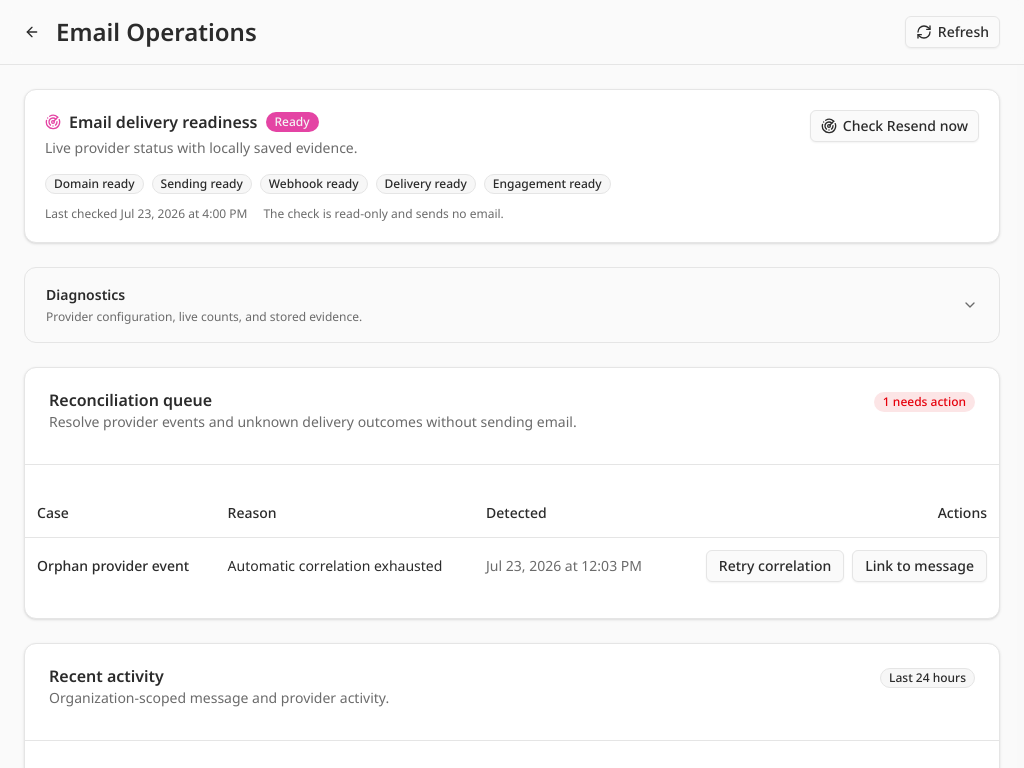
it: EmailOperationsDashboard › shows a controlled conflict message and blocks duplicate retries
Click the button "Retry correlation": [775, 566] box x1=706 y1=550 x2=844 y2=582
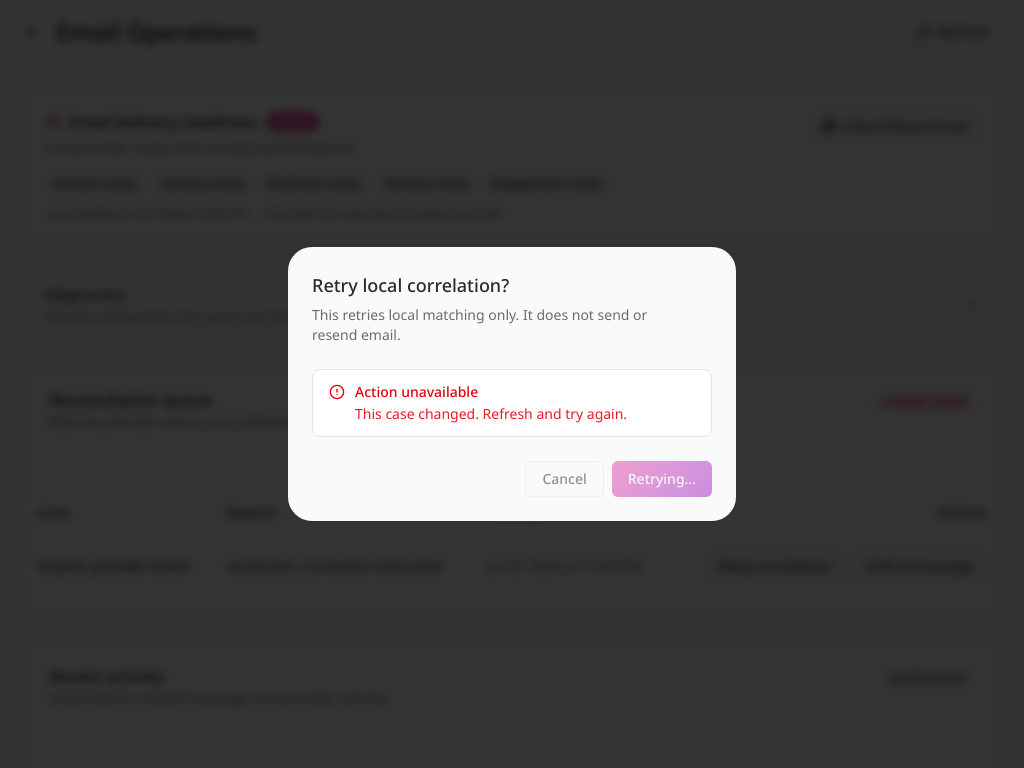
Expected: the text "This case changed. Refresh and try again." is shown, x1=355 y1=404 x2=627 y2=423
Expected: the button "Retrying..." is disabled, x1=612 y1=461 x2=712 y2=497
